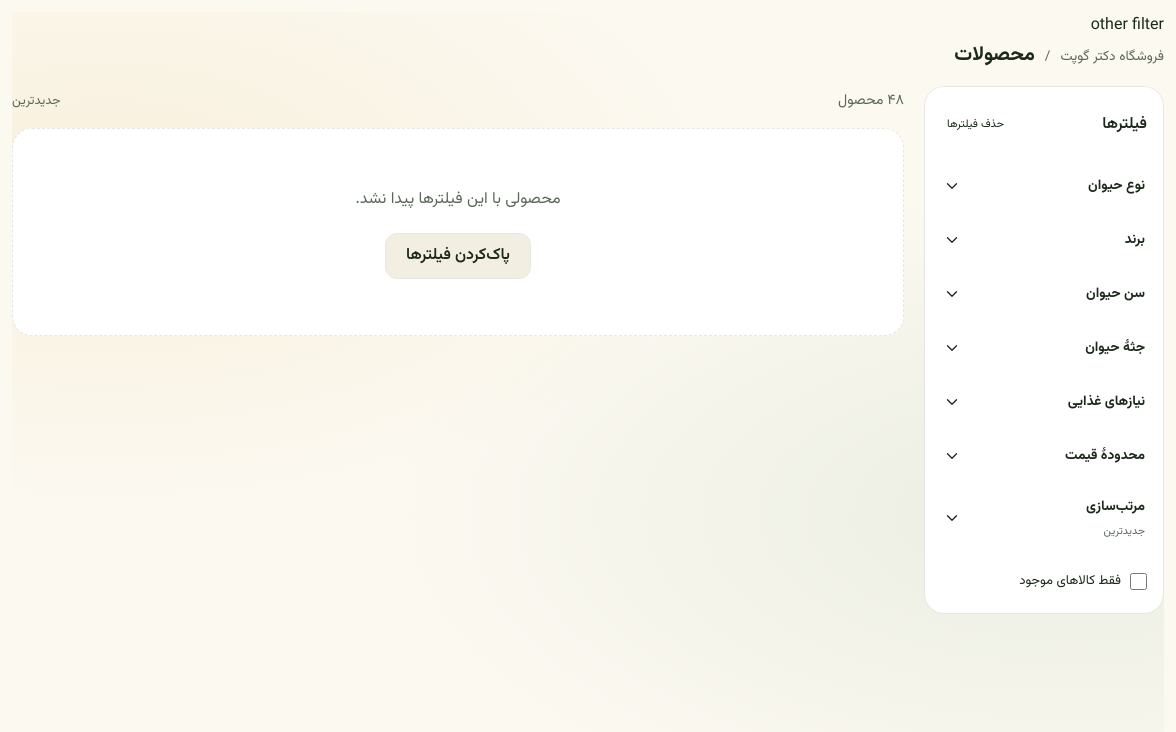
Test: catalog filters › opens only one compact section and retains the selected animal after another section opens
The width and height of the screenshot is (1176, 732).
Click the button "نوع حیوان": x=1044, y=186 [941, 159, 1147, 213]
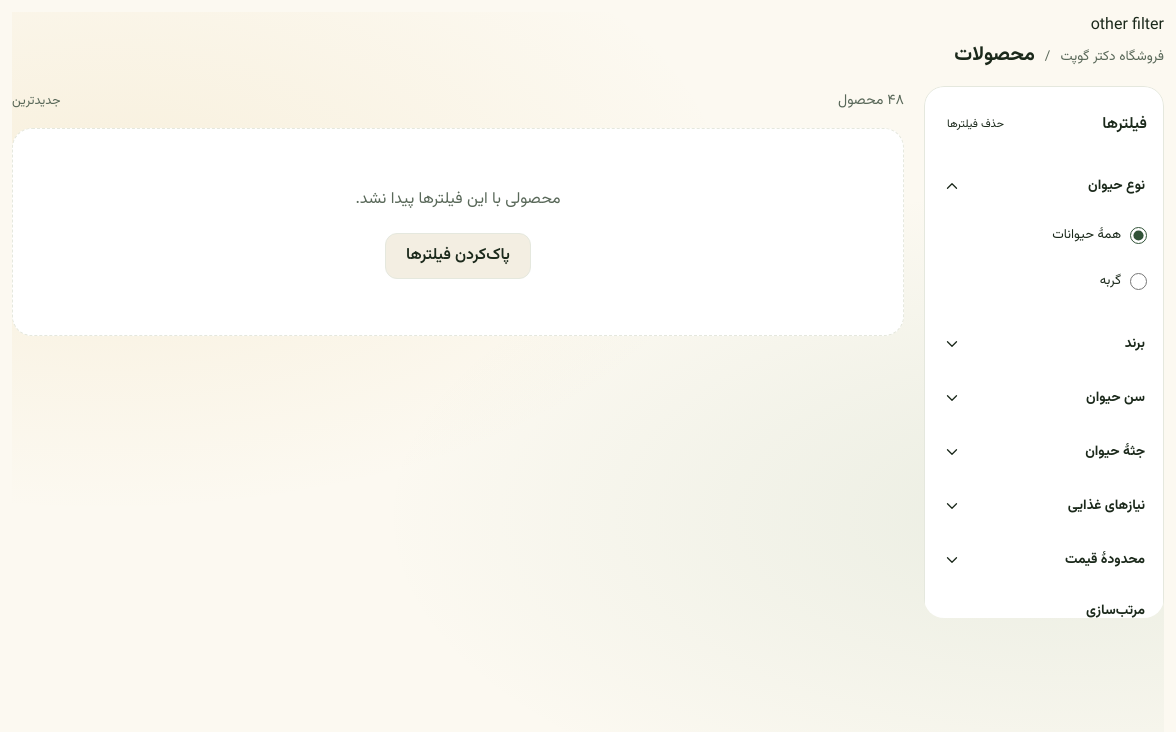
Click the radio button labelled "گربه": x=1138, y=281 [1130, 272, 1147, 290]
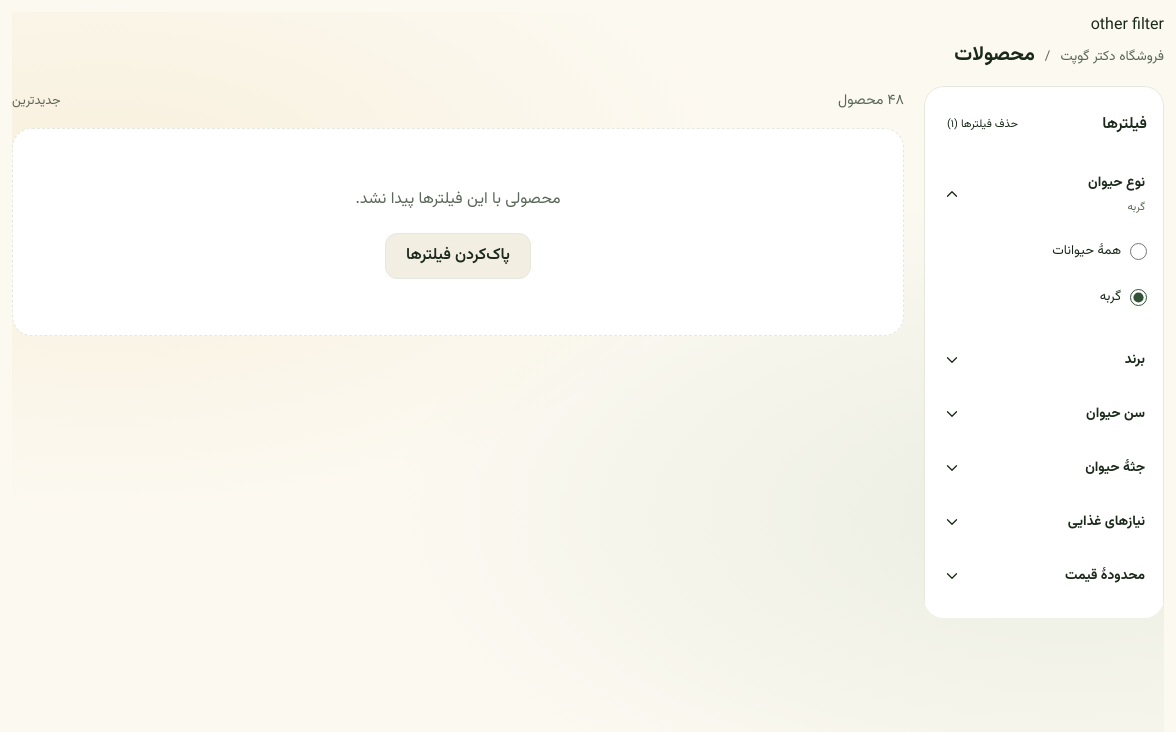
Click the button "برند": x=1044, y=360 [941, 333, 1147, 387]
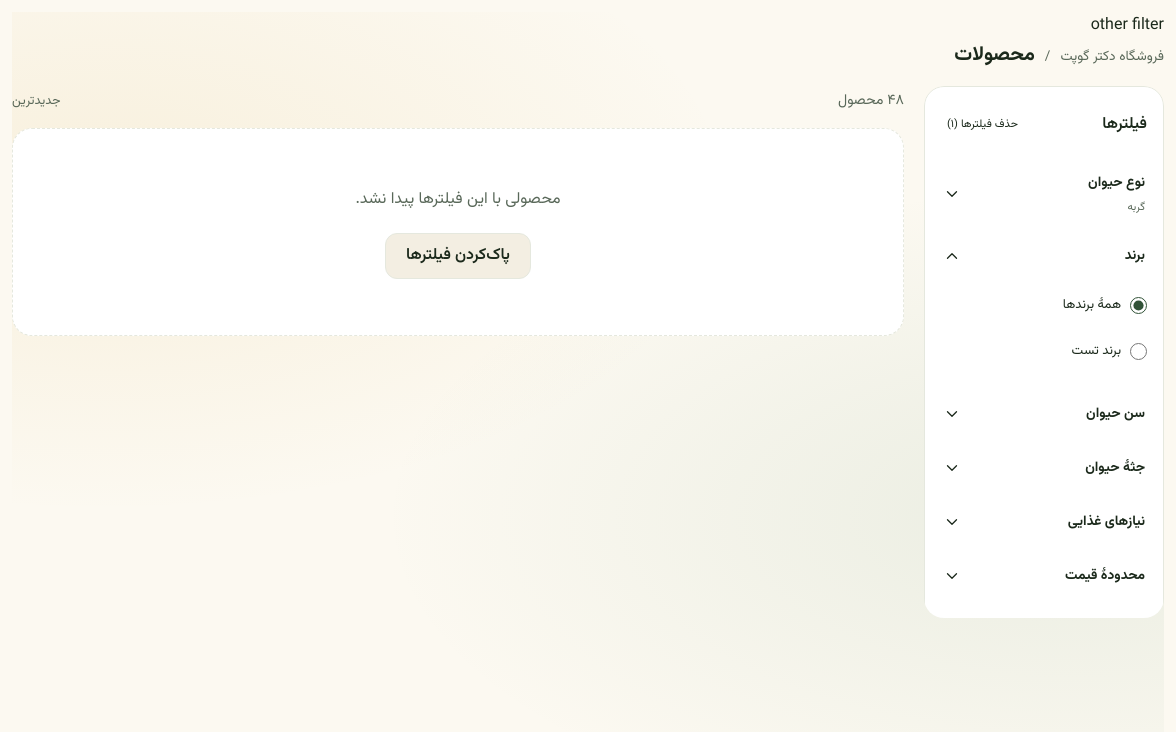
Check: the button "نوع حیوان گربه" is collapsed, box [941, 159, 1147, 229]
Check: the button "برند" is expanded, box [941, 229, 1147, 283]
